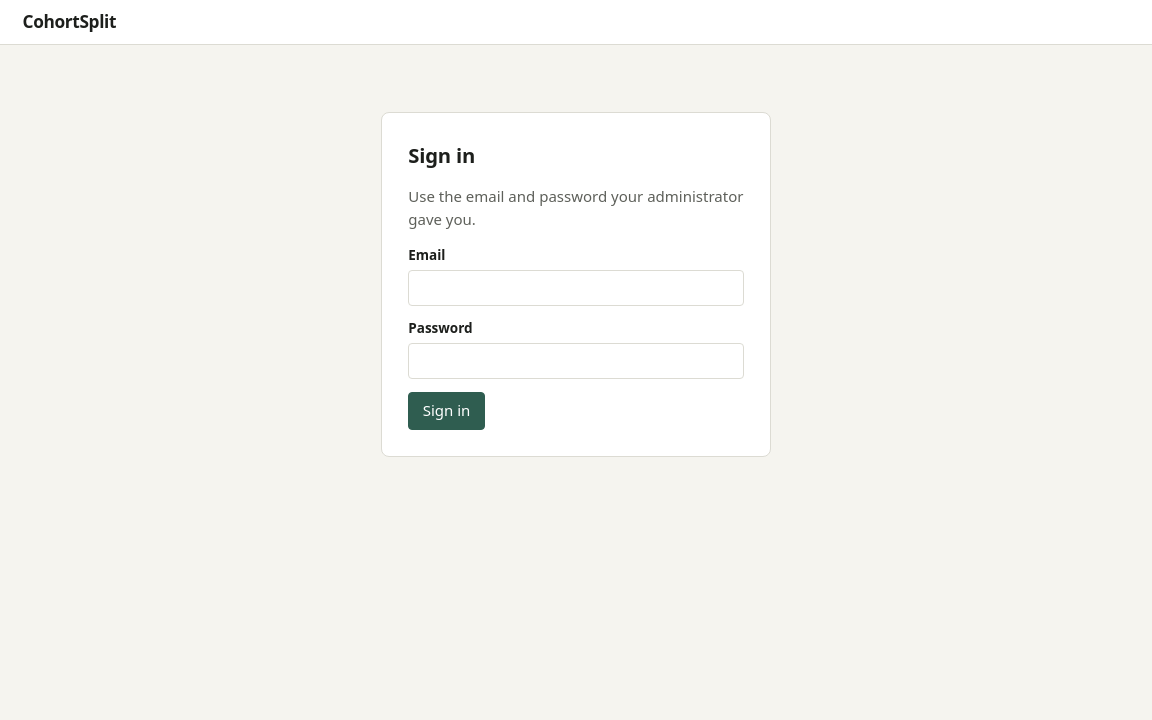
Scenario: Sign in › shows the server message on failure and stays on the form
Type "alice@example.com" into the field labelled "Email".
click(576, 288); type("alice@example.com")  # box left=408, top=270, right=744, bottom=306
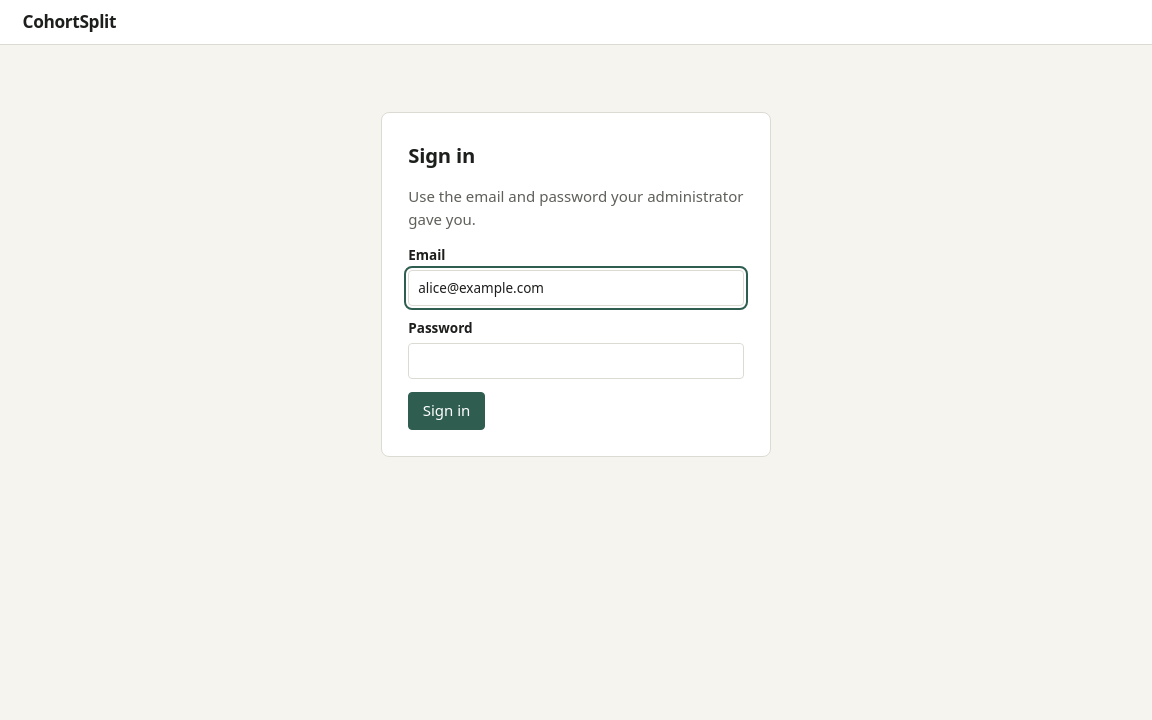
Type "wrong password here" into the password field labelled "Password".
click(576, 361); type("wrong password here")  # box left=408, top=343, right=744, bottom=379
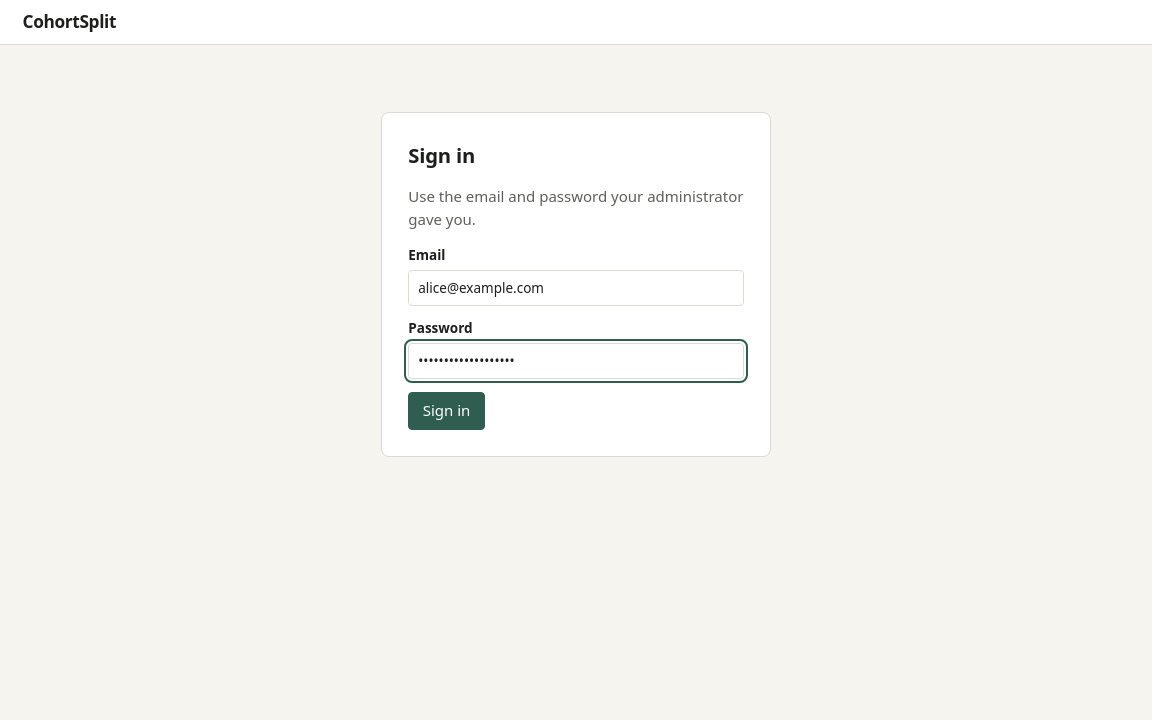
Click the button "Sign in".
click(447, 410)  # box left=408, top=392, right=485, bottom=430
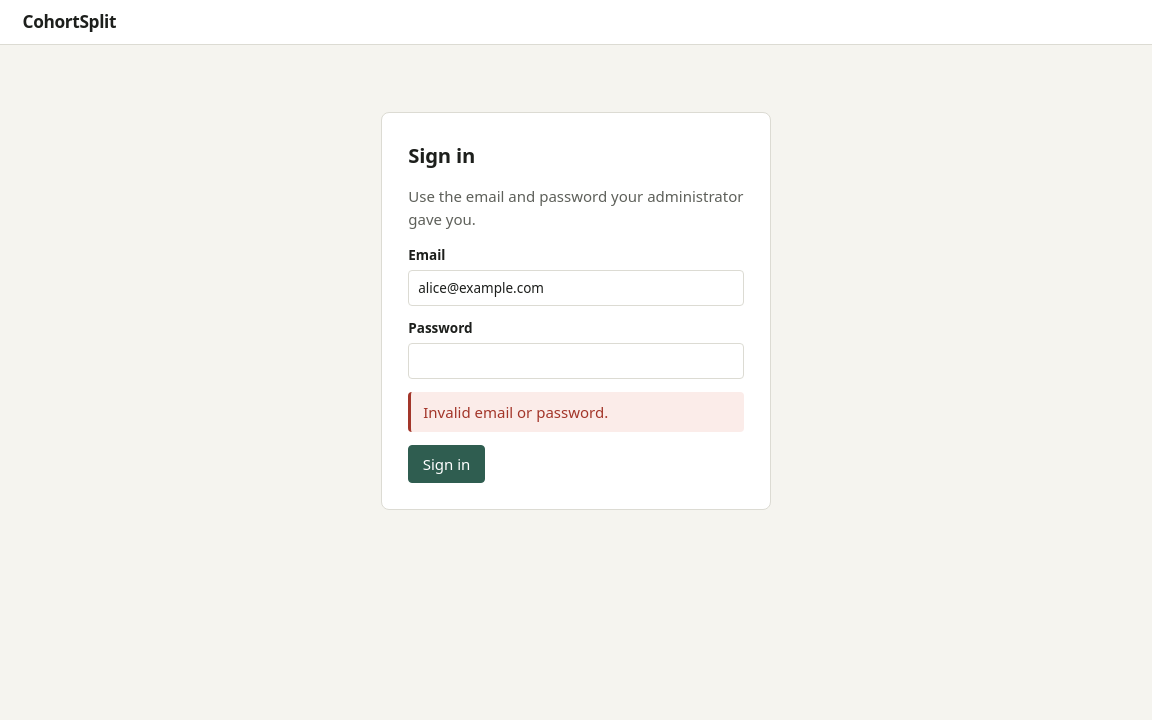
Expected: the message reads "Invalid email or password.", left=423, top=402, right=608, bottom=422
Expected: the password field labelled "Password" is empty, left=408, top=343, right=744, bottom=379
